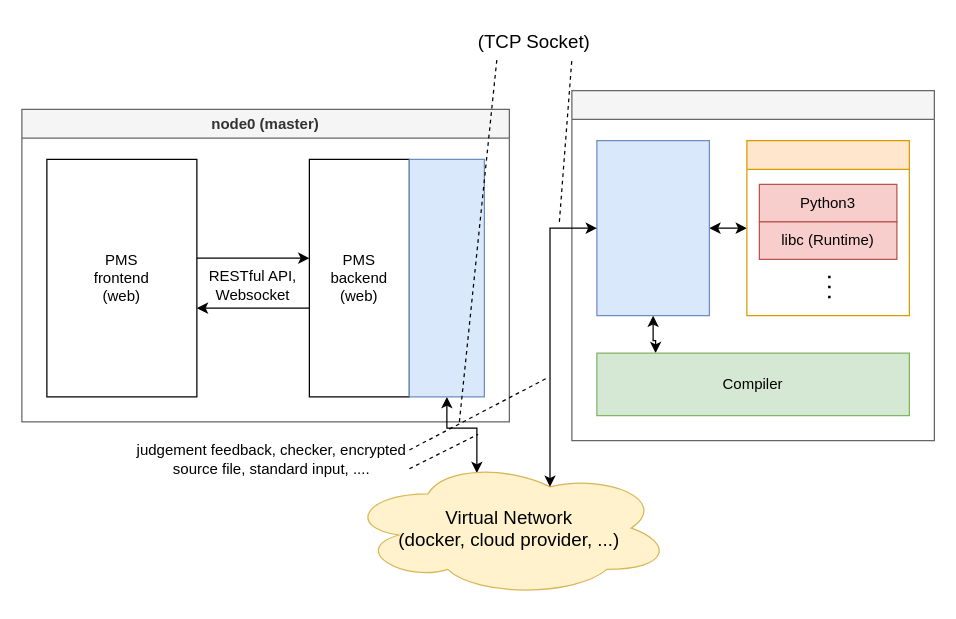
The diagram is 956 pixels wide and 619 high, and some of its shapes have lost their labels. Each missing label, with the box of its shape:
isolate: (746, 139, 909, 316)
nodeN (slave): (571, 89, 934, 441)
PMS master (judge): (408, 158, 484, 397)
PMS slave (judge): (596, 139, 709, 316)
